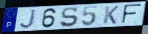5: (81, 5, 101, 27)
6: (41, 7, 57, 29)
F: (121, 3, 143, 25)
J: (19, 9, 37, 30)
K: (103, 6, 121, 25)
S: (59, 7, 79, 28)
